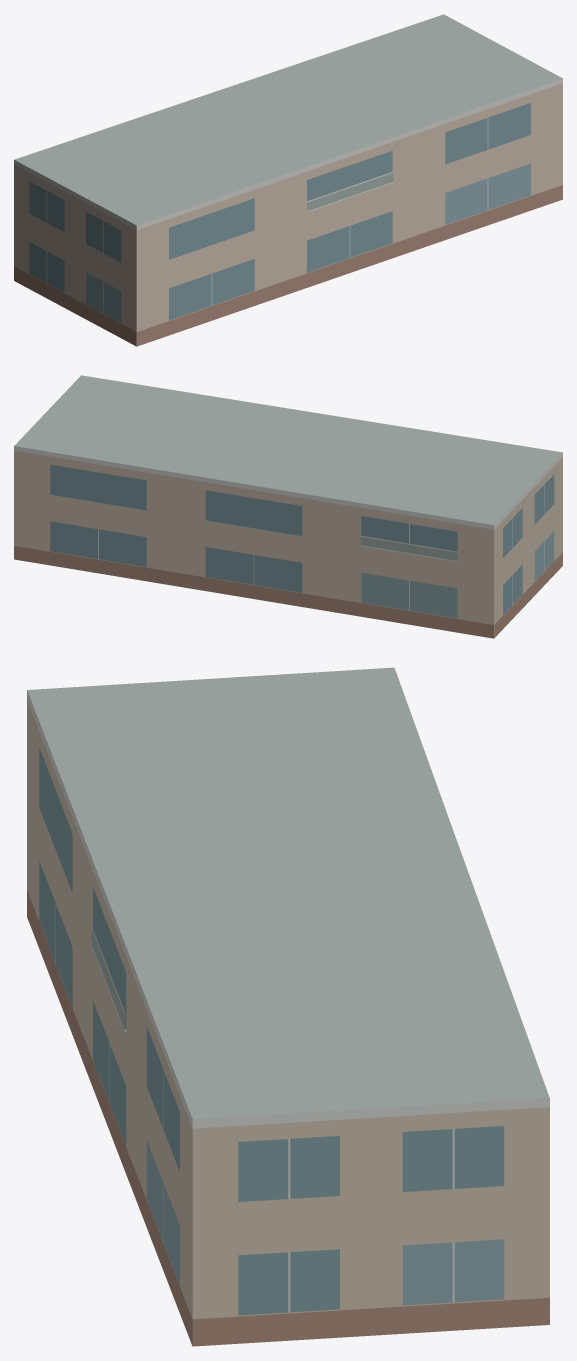
File: survey-upis-32763962.glb
The picture shows the model from 3 angles, top to bottom: view 1: azimuth 30°, elevation 25°; view 2: azimuth 150°, elevation 25°; view 3: azimuth 270°, elevation 25°; orthographic projection. The views are drawn at different scales.
Visible parts, largest first — view 1: survey-upis-32763962.tmp; view 2: survey-upis-32763962.tmp; view 3: survey-upis-32763962.tmp.
Boxes of the visible parts, <box> form: survey-upis-32763962.tmp: <box>14,14,562,346</box>; survey-upis-32763962.tmp: <box>14,375,562,638</box>; survey-upis-32763962.tmp: <box>27,667,549,1346</box>.
Size of the model in its own units: 26.09 by 6.1 by 12.75.
